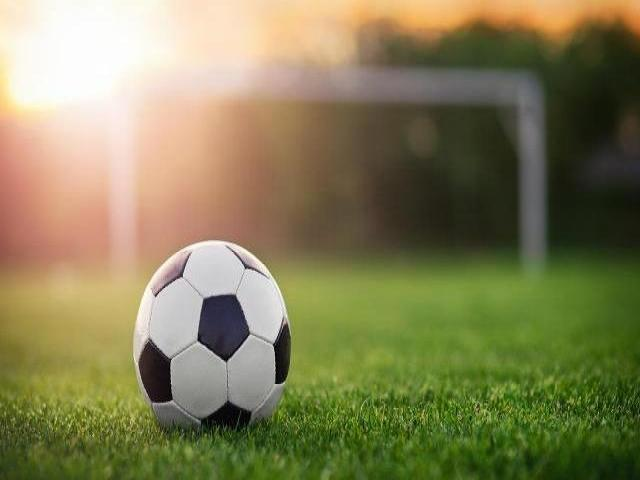round ball: (134, 241, 291, 429)
